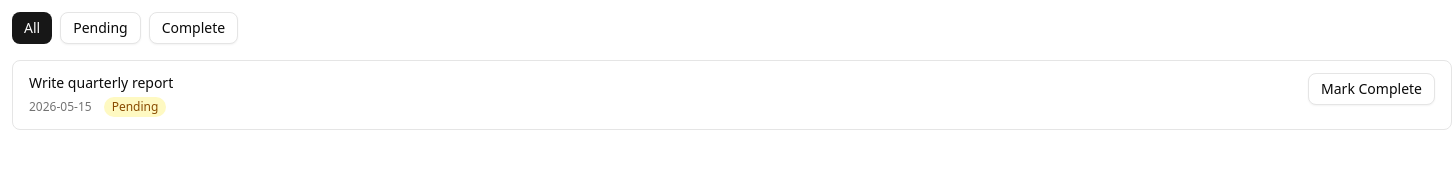
it: AC-6 & AC-7: Successful mark-complete updates status and removes the control › AC-6: task status updates to "Complete" in the UI after API confirms success
Click the button "Mark Complete" at (1372, 89), box 1308,73 -> 1435,105
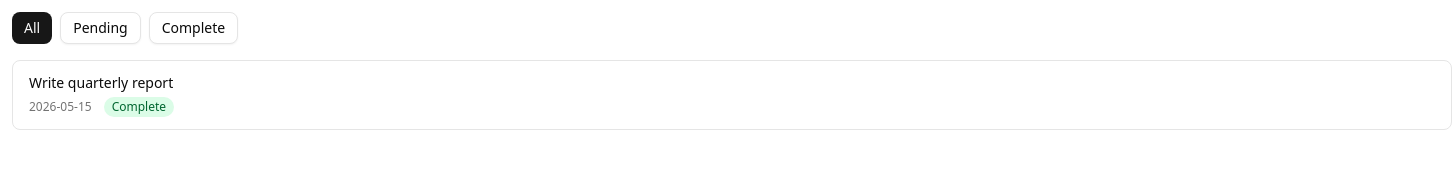
Check: the text "Complete" is shown, box 104,97 -> 174,117
